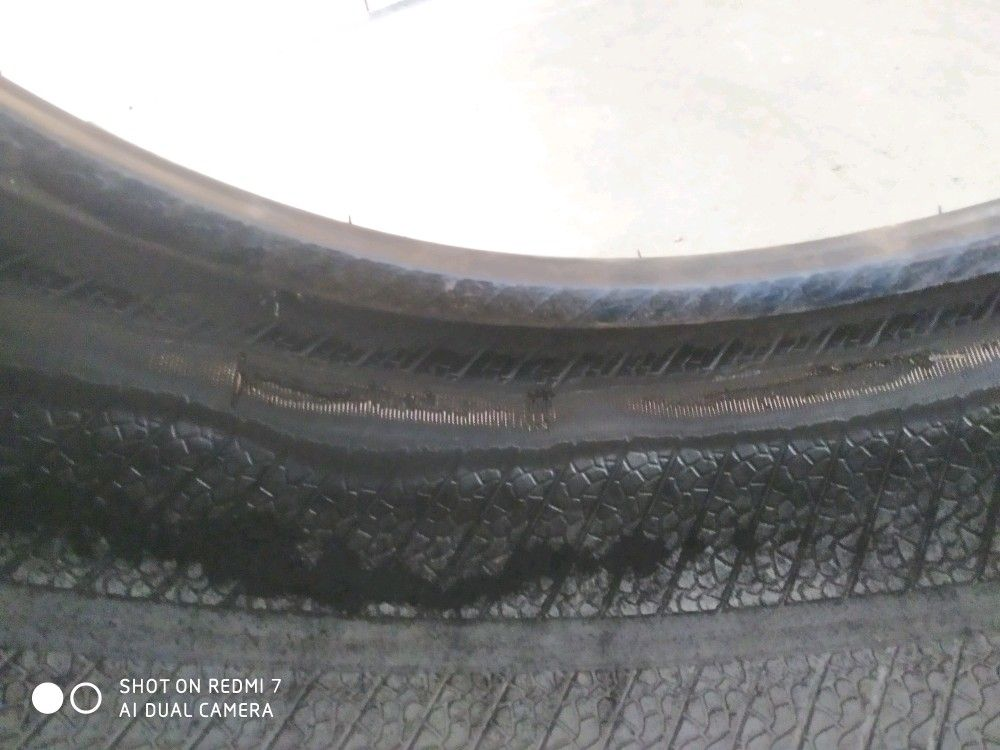bead_damage: (135, 335, 997, 432)
